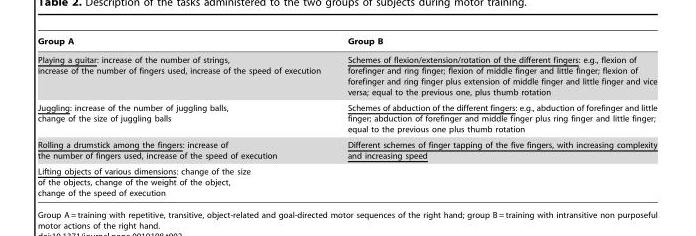table: (37, 36, 656, 197)
table column: (333, 36, 656, 197), (37, 36, 333, 197)
table column header: (37, 36, 656, 50)
table row: (37, 50, 656, 99), (37, 99, 656, 136), (37, 163, 656, 197), (37, 136, 656, 163), (37, 36, 656, 50)
